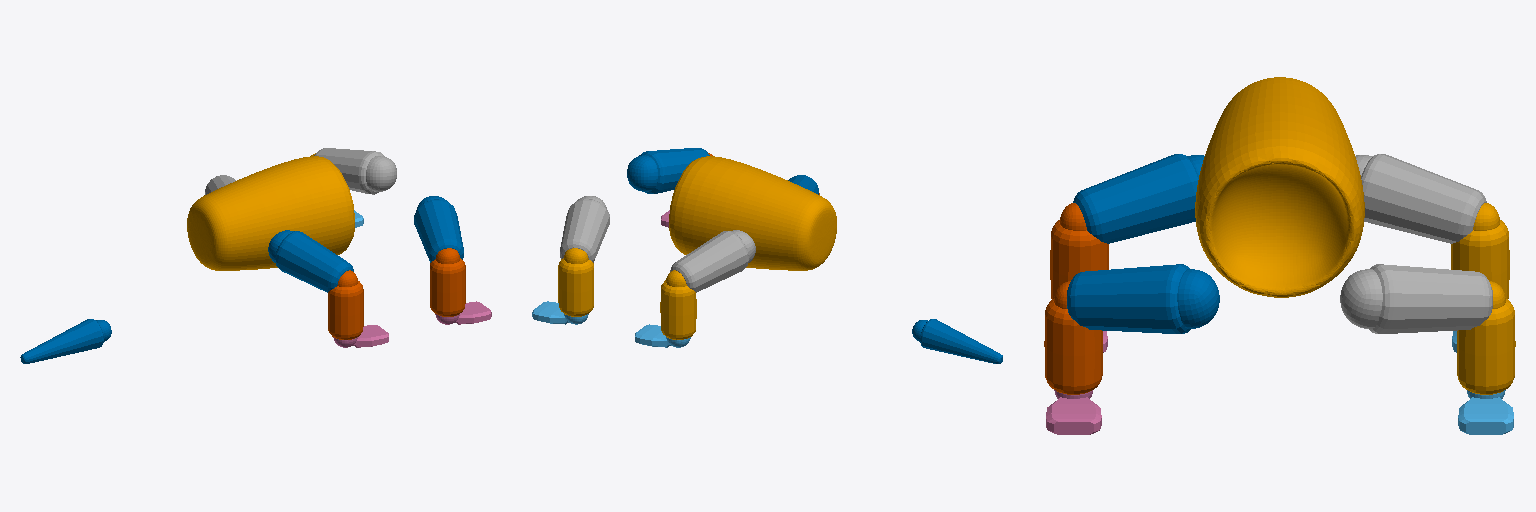
robot.urdf — lizard_robot:
<?xml version="1.0"?>
<robot name="lizard_robot">
  <link name="base_link">
<inertial>
      <origin xyz="-0.562282 -0.000000 0.000041" rpy="0 0 0" />
      <mass value="11.5415" />
      <inertia ixx="0.882862" ixy="0" ixz="0" iyy="1.369187" iyz="0" izz="1.369187" />
    </inertial>
    
    <visual>
      <origin xyz="0 0 0" rpy="0 0 0"/>
      <geometry><mesh filename="meshes/visual/base_link_visual.obj"/></geometry>
    </visual>
    <collision>
      <origin xyz="0 0 0" rpy="0 0 0"/>
      <geometry><mesh filename="meshes/collision/base_link_collision.obj"/></geometry>
    </collision>
  </link>
  <link name="chest_yaw">
<inertial>
      <origin xyz="0.000000 0.000000 0.000000" rpy="0 0 0" />
      <mass value="0.0500" />
      <inertia ixx="0.000001" ixy="0" ixz="0" iyy="0.000001" iyz="0" izz="0.000001" />
    </inertial>
  
  </link>
  <link name="chest_pitch">
<inertial>
      <origin xyz="0.349711 -0.000000 0.000041" rpy="0 0 0" />
      <mass value="16.2013" />
      <inertia ixx="1.332114" ixy="0" ixz="0" iyy="2.816066" iyz="0" izz="2.816066" />
    </inertial>
    
    <visual>
      <origin xyz="0 0 0" rpy="0 0 0"/>
      <geometry><mesh filename="meshes/visual/chest_pitch_visual.obj"/></geometry>
    </visual>
    <collision>
      <origin xyz="0 0 0" rpy="0 0 0"/>
      <geometry><mesh filename="meshes/collision/chest_pitch_collision.obj"/></geometry>
    </collision>
  </link>
  <link name="neck_yaw">
<inertial>
      <origin xyz="0.000000 0.000000 0.000000" rpy="0 0 0" />
      <mass value="0.0500" />
      <inertia ixx="0.000001" ixy="0" ixz="0" iyy="0.000001" iyz="0" izz="0.000001" />
    </inertial>
  
  </link>
  <link name="neck_pitch">
<inertial>
      <origin xyz="-0.081966 -0.000000 0.001171" rpy="0 0 0" />
      <mass value="11.3585" />
      <inertia ixx="1.259181" ixy="0" ixz="0" iyy="1.298410" iyz="0" izz="1.273023" />
    </inertial>
    
    <visual>
      <origin xyz="0 0 0" rpy="0 0 0"/>
      <geometry><mesh filename="meshes/visual/neck_pitch_visual.obj"/></geometry>
    </visual>
    <collision>
      <origin xyz="0 0 0" rpy="0 0 0"/>
      <geometry><mesh filename="meshes/collision/neck_pitch_collision.obj"/></geometry>
    </collision>
  </link>
  <link name="lf_shoulder_swing">
<inertial>
      <origin xyz="0.000000 0.000000 0.000000" rpy="0 0 0" />
      <mass value="0.025" />
      <inertia ixx="5e-07" ixy="0" ixz="0" iyy="5e-07" iyz="0" izz="5e-07" />
    </inertial>
  
  </link>
  <link name="lf_shoulder_abduct">
<inertial>
      <origin xyz="0.000000 0.000000 0.000000" rpy="0 0 0" />
      <mass value="0.025" />
      <inertia ixx="5e-07" ixy="0" ixz="0" iyy="5e-07" iyz="0" izz="5e-07" />
    </inertial>
  
  </link>
  <link name="lf_shoulder_twist">
<inertial>
      <origin xyz="-0.071764 0.187219 -0.030538" rpy="0 0 0" />
      <mass value="3.1181" />
      <inertia ixx="0.124344" ixy="0" ixz="0" iyy="0.065242" iyz="0" izz="0.135718" />
    </inertial>
    
    <visual>
      <origin xyz="0 0 0" rpy="0 0 0"/>
      <geometry><mesh filename="meshes/visual/lf_shoulder_twist_visual.obj"/></geometry>
    </visual>
    <collision>
      <origin xyz="0 0 0" rpy="0 0 0"/>
      <geometry><mesh filename="meshes/collision/lf_shoulder_twist_collision.obj"/></geometry>
    </collision>
  </link>
  <link name="lf_elbow">
<inertial>
      <origin xyz="0.000000 -0.000001 -0.151529" rpy="0 0 0" />
      <mass value="1.9107" />
      <inertia ixx="0.042611" ixy="0" ixz="0" iyy="0.042611" iyz="0" izz="0.017492" />
    </inertial>
    
    <visual>
      <origin xyz="0 0 0" rpy="0 0 0"/>
      <geometry><mesh filename="meshes/visual/lf_elbow_visual.obj"/></geometry>
    </visual>
    <collision>
      <origin xyz="0 0 0" rpy="0 0 0"/>
      <geometry><mesh filename="meshes/collision/lf_elbow_collision.obj"/></geometry>
    </collision>
  </link>
  <link name="lf_wrist">
<inertial>
      <origin xyz="0.100391 -0.000000 0.000000" rpy="0 0 0" />
      <mass value="1.0861" />
      <inertia ixx="0.006798" ixy="0" ixz="0" iyy="0.013920" iyz="0" izz="0.016194" />
    </inertial>
    
    <visual>
      <origin xyz="0 0 0" rpy="0 0 0"/>
      <geometry><mesh filename="meshes/visual/lf_wrist_visual.obj"/></geometry>
    </visual>
    <collision>
      <origin xyz="0 0 0" rpy="0 0 0"/>
      <geometry><mesh filename="meshes/collision/lf_wrist_collision.obj"/></geometry>
    </collision>
  </link>
  <link name="rf_shoulder_swing">
<inertial>
      <origin xyz="0.000000 0.000000 0.000000" rpy="0 0 0" />
      <mass value="0.025" />
      <inertia ixx="5e-07" ixy="0" ixz="0" iyy="5e-07" iyz="0" izz="5e-07" />
    </inertial>
  
  </link>
  <link name="rf_shoulder_abduct">
<inertial>
      <origin xyz="0.000000 0.000000 0.000000" rpy="0 0 0" />
      <mass value="0.025" />
      <inertia ixx="5e-07" ixy="0" ixz="0" iyy="5e-07" iyz="0" izz="5e-07" />
    </inertial>
  
  </link>
  <link name="rf_shoulder_twist">
<inertial>
      <origin xyz="-0.071765 -0.187219 -0.030538" rpy="0 0 0" />
      <mass value="3.1181" />
      <inertia ixx="0.124344" ixy="0" ixz="0" iyy="0.065242" iyz="0" izz="0.135718" />
    </inertial>
    
    <visual>
      <origin xyz="0 0 0" rpy="0 0 0"/>
      <geometry><mesh filename="meshes/visual/rf_shoulder_twist_visual.obj"/></geometry>
    </visual>
    <collision>
      <origin xyz="0 0 0" rpy="0 0 0"/>
      <geometry><mesh filename="meshes/collision/rf_shoulder_twist_collision.obj"/></geometry>
    </collision>
  </link>
  <link name="rf_elbow">
<inertial>
      <origin xyz="0.000000 0.000001 -0.151529" rpy="0 0 0" />
      <mass value="1.9107" />
      <inertia ixx="0.042611" ixy="0" ixz="0" iyy="0.042611" iyz="0" izz="0.017492" />
    </inertial>
    
    <visual>
      <origin xyz="0 0 0" rpy="0 0 0"/>
      <geometry><mesh filename="meshes/visual/rf_elbow_visual.obj"/></geometry>
    </visual>
    <collision>
      <origin xyz="0 0 0" rpy="0 0 0"/>
      <geometry><mesh filename="meshes/collision/rf_elbow_collision.obj"/></geometry>
    </collision>
  </link>
  <link name="rf_wrist">
<inertial>
      <origin xyz="0.100392 0.000000 0.000000" rpy="0 0 0" />
      <mass value="1.0861" />
      <inertia ixx="0.006798" ixy="0" ixz="0" iyy="0.013920" iyz="0" izz="0.016194" />
    </inertial>
    
    <visual>
      <origin xyz="0 0 0" rpy="0 0 0"/>
      <geometry><mesh filename="meshes/visual/rf_wrist_visual.obj"/></geometry>
    </visual>
    <collision>
      <origin xyz="0 0 0" rpy="0 0 0"/>
      <geometry><mesh filename="meshes/collision/rf_wrist_collision.obj"/></geometry>
    </collision>
  </link>
  <link name="tail1_yaw">
<inertial>
      <origin xyz="0.000000 0.000000 0.000000" rpy="0 0 0" />
      <mass value="0.0500" />
      <inertia ixx="0.000001" ixy="0" ixz="0" iyy="0.000001" iyz="0" izz="0.000001" />
    </inertial>
  
  </link>
  <link name="tail1_pitch">
<inertial>
      <origin xyz="-0.115276 -0.000377 -0.170720" rpy="0 0 0" />
      <mass value="4.0133" />
      <inertia ixx="0.177366" ixy="0" ixz="0" iyy="0.237661" iyz="0" izz="0.132145" />
    </inertial>
    
    <visual>
      <origin xyz="0 0 0" rpy="0 0 0"/>
      <geometry><mesh filename="meshes/visual/tail1_pitch_visual.obj"/></geometry>
    </visual>
    <collision>
      <origin xyz="0 0 0" rpy="0 0 0"/>
      <geometry><mesh filename="meshes/collision/tail1_pitch_collision.obj"/></geometry>
    </collision>
  </link>
  <link name="tail2_yaw">
<inertial>
      <origin xyz="0.000000 0.000000 0.000000" rpy="0 0 0" />
      <mass value="0.0500" />
      <inertia ixx="0.000001" ixy="0" ixz="0" iyy="0.000001" iyz="0" izz="0.000001" />
    </inertial>
  
  </link>
  <link name="tail2_pitch">
<inertial>
      <origin xyz="-0.161846 -0.000047 -0.012437" rpy="0 0 0" />
      <mass value="2.3739" />
      <inertia ixx="0.028945" ixy="0" ixz="0" iyy="0.069960" iyz="0" izz="0.068587" />
    </inertial>
    
    <visual>
      <origin xyz="0 0 0" rpy="0 0 0"/>
      <geometry><mesh filename="meshes/visual/tail2_pitch_visual.obj"/></geometry>
    </visual>
    <collision>
      <origin xyz="0 0 0" rpy="0 0 0"/>
      <geometry><mesh filename="meshes/collision/tail2_pitch_collision.obj"/></geometry>
    </collision>
  </link>
  <link name="tail3_yaw">
<inertial>
      <origin xyz="0.000000 0.000000 0.000000" rpy="0 0 0" />
      <mass value="0.0500" />
      <inertia ixx="0.000001" ixy="0" ixz="0" iyy="0.000001" iyz="0" izz="0.000001" />
    </inertial>
  
  </link>
  <link name="tail3_pitch">
<inertial>
      <origin xyz="-0.250363 -0.000028 -0.004752" rpy="0 0 0" />
      <mass value="1.6023" />
      <inertia ixx="0.010405" ixy="0" ixz="0" iyy="0.062560" iyz="0" izz="0.062638" />
    </inertial>
    
    <visual>
      <origin xyz="0 0 0" rpy="0 0 0"/>
      <geometry><mesh filename="meshes/visual/tail3_pitch_visual.obj"/></geometry>
    </visual>
    <collision>
      <origin xyz="0 0 0" rpy="0 0 0"/>
      <geometry><mesh filename="meshes/collision/tail3_pitch_collision.obj"/></geometry>
    </collision>
  </link>
  <link name="rl_hip_swing">
<inertial>
      <origin xyz="0.000000 0.000000 0.000000" rpy="0 0 0" />
      <mass value="0.025" />
      <inertia ixx="5e-07" ixy="0" ixz="0" iyy="5e-07" iyz="0" izz="5e-07" />
    </inertial>
  
  </link>
  <link name="rl_hip_abduct">
<inertial>
      <origin xyz="0.000000 0.000000 0.000000" rpy="0 0 0" />
      <mass value="0.025" />
      <inertia ixx="5e-07" ixy="0" ixz="0" iyy="5e-07" iyz="0" izz="5e-07" />
    </inertial>
  
  </link>
  <link name="rl_hip_twist">
<inertial>
      <origin xyz="0.071775 0.187241 -0.030504" rpy="0 0 0" />
      <mass value="3.1181" />
      <inertia ixx="0.124367" ixy="0" ixz="0" iyy="0.065238" iyz="0" izz="0.135709" />
    </inertial>
    
    <visual>
      <origin xyz="0 0 0" rpy="0 0 0"/>
      <geometry><mesh filename="meshes/visual/rl_hip_twist_visual.obj"/></geometry>
    </visual>
    <collision>
      <origin xyz="0 0 0" rpy="0 0 0"/>
      <geometry><mesh filename="meshes/collision/rl_hip_twist_collision.obj"/></geometry>
    </collision>
  </link>
  <link name="rl_knee">
<inertial>
      <origin xyz="-0.000000 -0.000000 -0.151529" rpy="0 0 0" />
      <mass value="1.9107" />
      <inertia ixx="0.042611" ixy="0" ixz="0" iyy="0.042611" iyz="0" izz="0.017492" />
    </inertial>
    
    <visual>
      <origin xyz="0 0 0" rpy="0 0 0"/>
      <geometry><mesh filename="meshes/visual/rl_knee_visual.obj"/></geometry>
    </visual>
    <collision>
      <origin xyz="0 0 0" rpy="0 0 0"/>
      <geometry><mesh filename="meshes/collision/rl_knee_collision.obj"/></geometry>
    </collision>
  </link>
  <link name="rl_ankle">
<inertial>
      <origin xyz="0.100391 -0.000000 0.000000" rpy="0 0 0" />
      <mass value="1.0861" />
      <inertia ixx="0.006799" ixy="0" ixz="0" iyy="0.013921" iyz="0" izz="0.016195" />
    </inertial>
    
    <visual>
      <origin xyz="0 0 0" rpy="0 0 0"/>
      <geometry><mesh filename="meshes/visual/rl_ankle_visual.obj"/></geometry>
    </visual>
    <collision>
      <origin xyz="0 0 0" rpy="0 0 0"/>
      <geometry><mesh filename="meshes/collision/rl_ankle_collision.obj"/></geometry>
    </collision>
  </link>
  <link name="rr_hip_swing">
<inertial>
      <origin xyz="0.000000 0.000000 0.000000" rpy="0 0 0" />
      <mass value="0.025" />
      <inertia ixx="5e-07" ixy="0" ixz="0" iyy="5e-07" iyz="0" izz="5e-07" />
    </inertial>
  
  </link>
  <link name="rr_hip_abduct">
<inertial>
      <origin xyz="0.000000 0.000000 0.000000" rpy="0 0 0" />
      <mass value="0.025" />
      <inertia ixx="5e-07" ixy="0" ixz="0" iyy="5e-07" iyz="0" izz="5e-07" />
    </inertial>
  
  </link>
  <link name="rr_hip_twist">
<inertial>
      <origin xyz="0.071774 -0.187241 -0.030504" rpy="0 0 0" />
      <mass value="3.1181" />
      <inertia ixx="0.124367" ixy="0" ixz="0" iyy="0.065238" iyz="0" izz="0.135709" />
    </inertial>
    
    <visual>
      <origin xyz="0 0 0" rpy="0 0 0"/>
      <geometry><mesh filename="meshes/visual/rr_hip_twist_visual.obj"/></geometry>
    </visual>
    <collision>
      <origin xyz="0 0 0" rpy="0 0 0"/>
      <geometry><mesh filename="meshes/collision/rr_hip_twist_collision.obj"/></geometry>
    </collision>
  </link>
  <link name="rr_knee">
<inertial>
      <origin xyz="0.000000 0.000000 -0.151530" rpy="0 0 0" />
      <mass value="1.9107" />
      <inertia ixx="0.042611" ixy="0" ixz="0" iyy="0.042611" iyz="0" izz="0.017492" />
    </inertial>
    
    <visual>
      <origin xyz="0 0 0" rpy="0 0 0"/>
      <geometry><mesh filename="meshes/visual/rr_knee_visual.obj"/></geometry>
    </visual>
    <collision>
      <origin xyz="0 0 0" rpy="0 0 0"/>
      <geometry><mesh filename="meshes/collision/rr_knee_collision.obj"/></geometry>
    </collision>
  </link>
  <link name="rr_ankle">
<inertial>
      <origin xyz="0.100392 -0.000000 0.000000" rpy="0 0 0" />
      <mass value="1.0861" />
      <inertia ixx="0.006799" ixy="0" ixz="0" iyy="0.013921" iyz="0" izz="0.016195" />
    </inertial>
    
    <visual>
      <origin xyz="0 0 0" rpy="0 0 0"/>
      <geometry><mesh filename="meshes/visual/rr_ankle_visual.obj"/></geometry>
    </visual>
    <collision>
      <origin xyz="0 0 0" rpy="0 0 0"/>
      <geometry><mesh filename="meshes/collision/rr_ankle_collision.obj"/></geometry>
    </collision>
  </link>
<joint name="chest_yaw_joint" type="revolute">
    <parent link="base_link" />
    <child link="chest_yaw" />
    <origin xyz="0.000000 0.000000 0.000000" rpy="0 0 0" />
    <axis xyz="0.000000000 0.000000000 1.000000000" />
    <limit lower="-0.600000000" upper="0.600000000" effort="80" velocity="4" />
  </joint>
  
<joint name="chest_pitch_joint" type="revolute">
    <parent link="chest_yaw" />
    <child link="chest_pitch" />
    <origin xyz="-0.005000 0.000000 0.000000" rpy="0 0 0" />
    <axis xyz="0.000000075 1.000000000 0.000000000" />
    <limit lower="-0.500000000" upper="0.500000000" effort="80" velocity="4" />
  </joint>
  
<joint name="neck_yaw_joint" type="revolute">
    <parent link="chest_pitch" />
    <child link="neck_yaw" />
    <origin xyz="1.261300 -0.000000 0.189500" rpy="0 0 0" />
    <axis xyz="0.000000000 0.000000000 1.000000000" />
    <limit lower="-0.600000000" upper="0.600000000" effort="80" velocity="4" />
  </joint>
  
<joint name="neck_pitch_joint" type="revolute">
    <parent link="neck_yaw" />
    <child link="neck_pitch" />
    <origin xyz="0.005000 -0.000000 0.000000" rpy="0 0 0" />
    <axis xyz="0.000000090 1.000000000 -0.000000062" />
    <limit lower="-0.500000000" upper="0.500000000" effort="80" velocity="4" />
  </joint>
  
<joint name="lf_shoulder_swing_joint" type="revolute">
    <parent link="chest_pitch" />
    <child link="lf_shoulder_swing" />
    <origin xyz="0.485375 0.359465 -0.055891" rpy="0 0 0" />
    <axis xyz="0.000000000 0.000000000 1.000000000" />
    <limit lower="-0.600000000" upper="0.600000000" effort="180" velocity="10" />
  </joint>
  
<joint name="lf_shoulder_abduct_joint" type="revolute">
    <parent link="lf_shoulder_swing" />
    <child link="lf_shoulder_abduct" />
    <origin xyz="0.000000 0.000000 0.000000" rpy="0 0 0" />
    <axis xyz="-0.939692557 -0.342020184 -0.000000000" />
    <limit lower="-0.600000000" upper="0.600000000" effort="180" velocity="10" />
  </joint>
  
<joint name="lf_shoulder_twist_joint" type="revolute">
    <parent link="lf_shoulder_abduct" />
    <child link="lf_shoulder_twist" />
    <origin xyz="0.000000 0.000000 0.000000" rpy="0 0 0" />
    <axis xyz="-0.336985975504 0.925861775875 -0.170939937234" />
    <limit lower="-0.5235987755982988" upper="0.5235987755982988" effort="180" velocity="10" />
  </joint>
  
<joint name="lf_elbow_joint" type="revolute">
    <parent link="lf_shoulder_twist" />
    <child link="lf_elbow" />
    <origin xyz="-0.169047 0.464453 -0.085751" rpy="0 0 0" />
    <axis xyz="-0.939692557 -0.342020184 -0.000000000" />
    <limit lower="-1.200000000" upper="1.200000000" effort="180" velocity="10" />
  </joint>
  
<joint name="lf_wrist_joint" type="revolute">
    <parent link="lf_elbow" />
    <child link="lf_wrist" />
    <origin xyz="0.000000 0.000000 -0.382121" rpy="0 0 0" />
    <axis xyz="-0.939692557 -0.342020184 -0.000000000" />
    <limit lower="-0.523598776" upper="0.523598776" effort="70" velocity="6" />
  </joint>
  
<joint name="rf_shoulder_swing_joint" type="revolute">
    <parent link="chest_pitch" />
    <child link="rf_shoulder_swing" />
    <origin xyz="0.485375 -0.359465 -0.055891" rpy="0 0 0" />
    <axis xyz="0.000000000 0.000000000 -1.000000000" />
    <limit lower="-0.600000000" upper="0.600000000" effort="180" velocity="10" />
  </joint>
  
<joint name="rf_shoulder_abduct_joint" type="revolute">
    <parent link="rf_shoulder_swing" />
    <child link="rf_shoulder_abduct" />
    <origin xyz="0.000000 0.000000 0.000000" rpy="0 0 0" />
    <axis xyz="0.939692557 -0.342020184 0.000000000" />
    <limit lower="-0.600000000" upper="0.600000000" effort="180" velocity="10" />
  </joint>
  
<joint name="rf_shoulder_twist_joint" type="revolute">
    <parent link="rf_shoulder_abduct" />
    <child link="rf_shoulder_twist" />
    <origin xyz="0.000000 0.000000 0.000000" rpy="0 0 0" />
    <axis xyz="-0.336985975504 -0.925861775875 -0.170939937234" />
    <limit lower="-0.5235987755982988" upper="0.5235987755982988" effort="180" velocity="10" />
  </joint>
  
<joint name="rf_elbow_joint" type="revolute">
    <parent link="rf_shoulder_twist" />
    <child link="rf_elbow" />
    <origin xyz="-0.169047 -0.464453 -0.085751" rpy="0 0 0" />
    <axis xyz="0.939692557 -0.342020184 0.000000000" />
    <limit lower="-1.200000000" upper="1.200000000" effort="180" velocity="10" />
  </joint>
  
<joint name="rf_wrist_joint" type="revolute">
    <parent link="rf_elbow" />
    <child link="rf_wrist" />
    <origin xyz="0.000000 0.000000 -0.382121" rpy="0 0 0" />
    <axis xyz="0.939692557 -0.342020184 0.000000000" />
    <limit lower="-0.523598776" upper="0.523598776" effort="70" velocity="6" />
  </joint>
  
<joint name="tail1_yaw_joint" type="revolute">
    <parent link="base_link" />
    <child link="tail1_yaw" />
    <origin xyz="-1.069600 0.000000 0.000000" rpy="0 0 0" />
    <axis xyz="0.000000000 0.000000000 1.000000000" />
    <limit lower="-0.600000000" upper="0.600000000" effort="80" velocity="4" />
  </joint>
  
<joint name="tail1_pitch_joint" type="revolute">
    <parent link="tail1_yaw" />
    <child link="tail1_pitch" />
    <origin xyz="-0.005000 0.000000 0.000000" rpy="0 0 0" />
    <axis xyz="0.010199841 0.999947965 -0.000000004" />
    <limit lower="-0.500000000" upper="0.500000000" effort="80" velocity="4" />
  </joint>
  
<joint name="tail2_yaw_joint" type="revolute">
    <parent link="tail1_pitch" />
    <child link="tail2_yaw" />
    <origin xyz="-0.292576 0.002984 -0.452943" rpy="0 0 0" />
    <axis xyz="0.000000000 0.000000000 1.000000000" />
    <limit lower="-0.600000000" upper="0.600000000" effort="80" velocity="4" />
  </joint>
  
<joint name="tail2_pitch_joint" type="revolute">
    <parent link="tail2_yaw" />
    <child link="tail2_pitch" />
    <origin xyz="-0.004901 -0.000001 0.000990" rpy="0 0 0" />
    <axis xyz="-0.019609608 0.980781317 0.194122165" />
    <limit lower="-0.500000000" upper="0.500000000" effort="80" velocity="4" />
  </joint>
  
<joint name="tail3_yaw_joint" type="revolute">
    <parent link="tail2_pitch" />
    <child link="tail3_yaw" />
    <origin xyz="-0.427768 -0.000088 -0.042767" rpy="0 0 0" />
    <axis xyz="0.000000000 0.000000000 1.000000000" />
    <limit lower="-0.600000000" upper="0.600000000" effort="80" velocity="4" />
  </joint>
  
<joint name="tail3_pitch_joint" type="revolute">
    <parent link="tail3_yaw" />
    <child link="tail3_pitch" />
    <origin xyz="-0.000077 -0.000000 -0.004999" rpy="0 0 0" />
    <axis xyz="0.023539688 0.980789781 -0.193642288" />
    <limit lower="-0.500000000" upper="0.500000000" effort="80" velocity="4" />
  </joint>
  
<joint name="rl_hip_swing_joint" type="revolute">
    <parent link="base_link" />
    <child link="rl_hip_swing" />
    <origin xyz="-0.602861 0.335819 -0.055928" rpy="0 0 0" />
    <axis xyz="0.000000000 0.000000000 1.000000000" />
    <limit lower="-0.600000000" upper="0.600000000" effort="180" velocity="10" />
  </joint>
  
<joint name="rl_hip_abduct_joint" type="revolute">
    <parent link="rl_hip_swing" />
    <child link="rl_hip_abduct" />
    <origin xyz="0.000000 0.000000 0.000000" rpy="0 0 0" />
    <axis xyz="-0.939692557 0.342020094 0.000000000" />
    <limit lower="-0.600000000" upper="0.600000000" effort="180" velocity="10" />
  </joint>
  
<joint name="rl_hip_twist_joint" type="revolute">
    <parent link="rl_hip_abduct" />
    <child link="rl_hip_twist" />
    <origin xyz="0.000000 0.000000 0.000000" rpy="0 0 0" />
    <axis xyz="0.336993932724 0.925882160664 -0.170813292265" />
    <limit lower="-0.5235987755982988" upper="0.5235987755982988" effort="180" velocity="10" />
  </joint>
  
<joint name="rl_knee_joint" type="revolute">
    <parent link="rl_hip_twist" />
    <child link="rl_knee" />
    <origin xyz="0.169056 0.464477 -0.085690" rpy="0 0 0" />
    <axis xyz="-0.939692557 0.342020094 0.000000000" />
    <limit lower="-1.200000000" upper="1.200000000" effort="180" velocity="10" />
  </joint>
  
<joint name="rl_ankle_joint" type="revolute">
    <parent link="rl_knee" />
    <child link="rl_ankle" />
    <origin xyz="0.000000 0.000000 -0.382120" rpy="0 0 0" />
    <axis xyz="-0.939692557 0.342020094 0.000000000" />
    <limit lower="-0.523598776" upper="0.523598776" effort="70" velocity="6" />
  </joint>
  
<joint name="rr_hip_swing_joint" type="revolute">
    <parent link="base_link" />
    <child link="rr_hip_swing" />
    <origin xyz="-0.602861 -0.335820 -0.055928" rpy="0 0 0" />
    <axis xyz="0.000000000 0.000000000 -1.000000000" />
    <limit lower="-0.600000000" upper="0.600000000" effort="180" velocity="10" />
  </joint>
  
<joint name="rr_hip_abduct_joint" type="revolute">
    <parent link="rr_hip_swing" />
    <child link="rr_hip_abduct" />
    <origin xyz="0.000000 0.000000 0.000000" rpy="0 0 0" />
    <axis xyz="0.939692557 0.342020094 -0.000000000" />
    <limit lower="-0.600000000" upper="0.600000000" effort="180" velocity="10" />
  </joint>
  
<joint name="rr_hip_twist_joint" type="revolute">
    <parent link="rr_hip_abduct" />
    <child link="rr_hip_twist" />
    <origin xyz="0.000000 0.000000 0.000000" rpy="0 0 0" />
    <axis xyz="0.336993813515 -0.92588186264 -0.170815214515" />
    <limit lower="-0.5235987755982988" upper="0.5235987755982988" effort="180" velocity="10" />
  </joint>
  
<joint name="rr_knee_joint" type="revolute">
    <parent link="rr_hip_twist" />
    <child link="rr_knee" />
    <origin xyz="0.169056 -0.464477 -0.085691" rpy="0 0 0" />
    <axis xyz="0.939692557 0.342020094 -0.000000000" />
    <limit lower="-1.200000000" upper="1.200000000" effort="180" velocity="10" />
  </joint>
  
<joint name="rr_ankle_joint" type="revolute">
    <parent link="rr_knee" />
    <child link="rr_ankle" />
    <origin xyz="0.000000 0.000000 -0.382120" rpy="0 0 0" />
    <axis xyz="0.939692557 0.342020094 -0.000000000" />
    <limit lower="-0.523598776" upper="0.523598776" effort="70" velocity="6" />
  </joint>

</robot>

--- Render facts (derived) ---
3 views of the same robot in one strip: view 1: azimuth 30°, elevation 25°; view 2: azimuth 150°, elevation 25°; view 3: azimuth 270°, elevation 25° (orthographic).
Robot: lizard_robot — 31 links, 30 joints (30 revolute); root link base_link; default pose: all joints at 0.
Links seen in each view (by area): view 1: base_link, rr_hip_twist, lf_shoulder_twist, rf_shoulder_twist, rf_elbow, rr_knee, tail3_pitch, rf_wrist, rr_ankle; view 2: base_link, rl_hip_twist, rf_shoulder_twist, lf_shoulder_twist, lf_elbow, rl_knee, tail3_pitch, lf_wrist, rl_ankle; view 3: base_link, lf_shoulder_twist, rf_shoulder_twist, rl_hip_twist, rr_hip_twist, lf_elbow, rf_elbow, rl_knee, rr_knee, lf_wrist, rf_wrist.
Boxes of the visible links, <box> form: base_link: <box>187,156,354,270</box>; rr_hip_twist: <box>268,230,353,292</box>; lf_shoulder_twist: <box>314,148,396,194</box>; rf_shoulder_twist: <box>414,196,463,262</box>; rf_elbow: <box>430,248,465,316</box>; rr_knee: <box>328,270,363,339</box>; tail3_pitch: <box>20,319,111,363</box>; rf_wrist: <box>435,301,491,324</box>; rr_ankle: <box>333,325,388,347</box>; base_link: <box>669,156,836,270</box>; rl_hip_twist: <box>670,230,755,292</box>; rf_shoulder_twist: <box>627,148,709,193</box>; lf_shoulder_twist: <box>560,196,609,262</box>; lf_elbow: <box>558,248,593,316</box>; rl_knee: <box>660,270,696,339</box>; tail3_pitch: <box>912,319,1002,363</box>; lf_wrist: <box>532,301,588,324</box>; rl_ankle: <box>635,324,690,347</box>; base_link: <box>1195,77,1364,297</box>; lf_shoulder_twist: <box>1340,264,1492,333</box>; rf_shoulder_twist: <box>1067,264,1219,333</box>; rl_hip_twist: <box>1355,154,1486,243</box>; rr_hip_twist: <box>1073,154,1204,243</box>; lf_elbow: <box>1457,281,1515,394</box>; rf_elbow: <box>1044,281,1102,394</box>; rl_knee: <box>1451,203,1509,298</box>; rr_knee: <box>1050,203,1108,298</box>; lf_wrist: <box>1458,390,1513,434</box>; rf_wrist: <box>1046,390,1101,434</box>.
Bounding box of the posed robot: 2.98 × 1.88 × 0.9416 m (x, y, z).
14 mesh visuals loaded from 18 distinct referenced files (14 OBJ); not drawn: 4 (reference not matched to a file when rendering).
